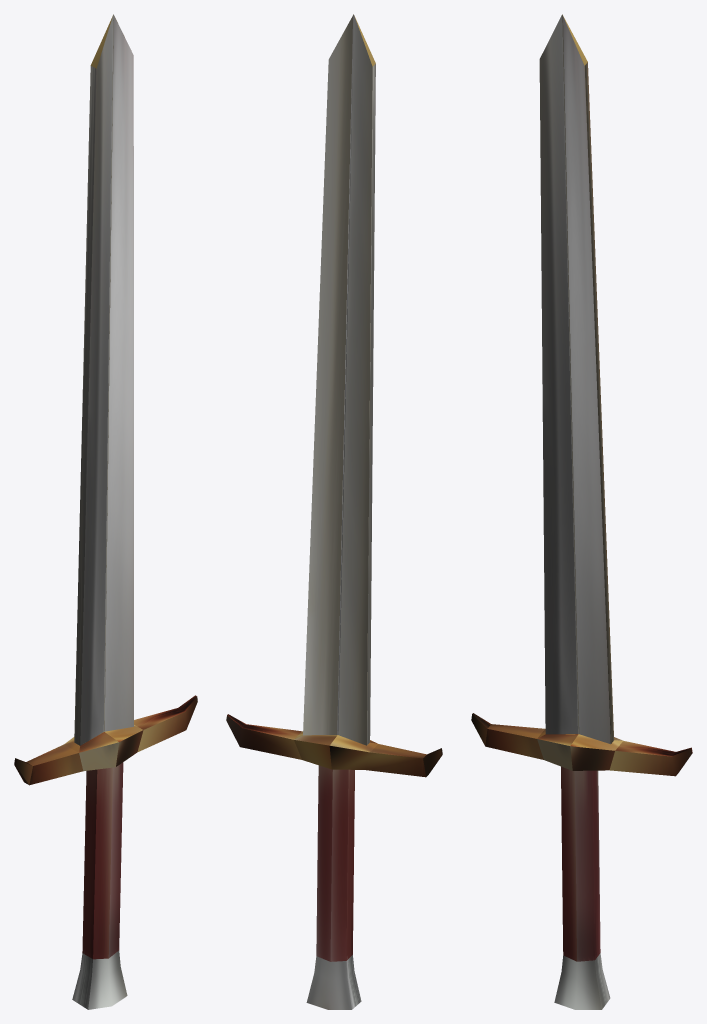
Rendered from SM_sword.fbx.
3 views of the same model, side by side, from view 1: azimuth 30°, elevation 25°; view 2: azimuth 150°, elevation 25°; view 3: azimuth 330°, elevation 25° (orthographic). The views are drawn at different scales.
Visible parts, largest first — view 1: Plane.016; view 2: Plane.016; view 3: Plane.016.
Boxes of the visible parts, x1=… form: Plane.016: x1=14, y1=14, x2=197, y2=1009; Plane.016: x1=226, y1=14, x2=442, y2=1009; Plane.016: x1=471, y1=14, x2=692, y2=1009.
Size of the model in its own units: 91.29 by 433 by 22.77.
Materials: 1 (1 with a texture image).
